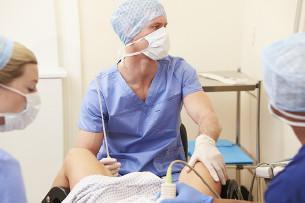OK: (1, 73, 44, 132), (132, 19, 174, 61)
